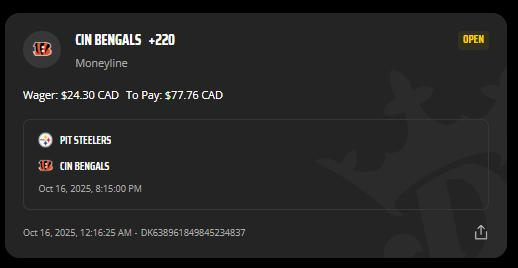game: (59, 133, 113, 172)
odds: (149, 32, 177, 49)
payout: (165, 89, 200, 103)
wager: (60, 89, 96, 102)
